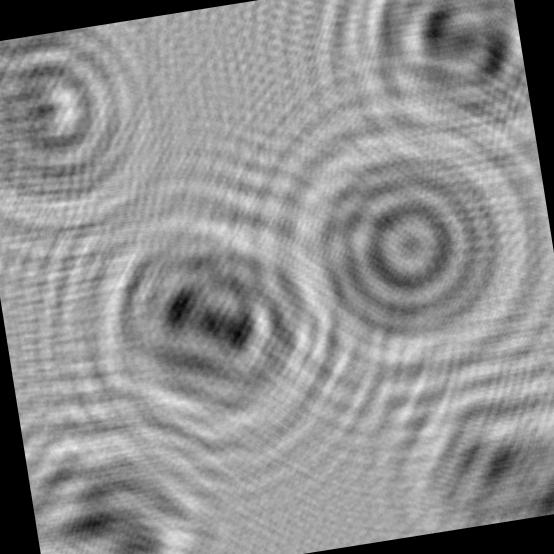B: (57, 179, 348, 472)
C: (0, 17, 179, 249)
M: (21, 403, 230, 554)
Q: (260, 100, 554, 410)
S: (344, 0, 537, 176)
Z: (372, 345, 554, 538)
